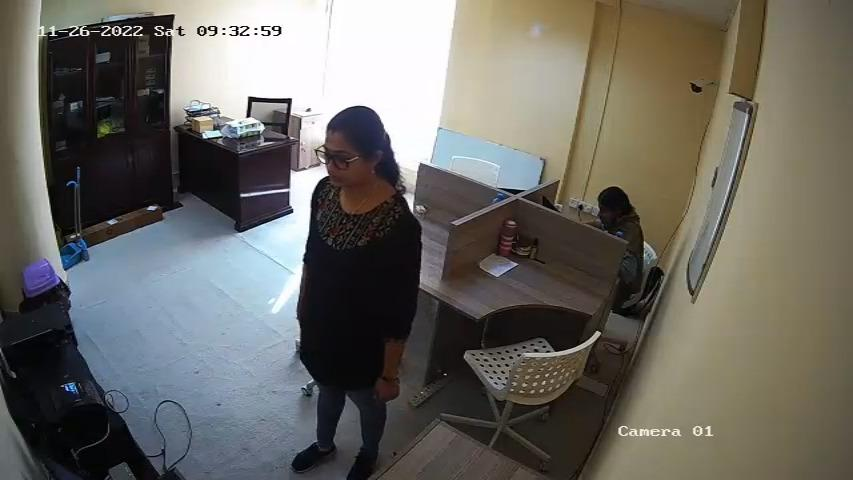no_apron: (301, 193, 401, 355)
